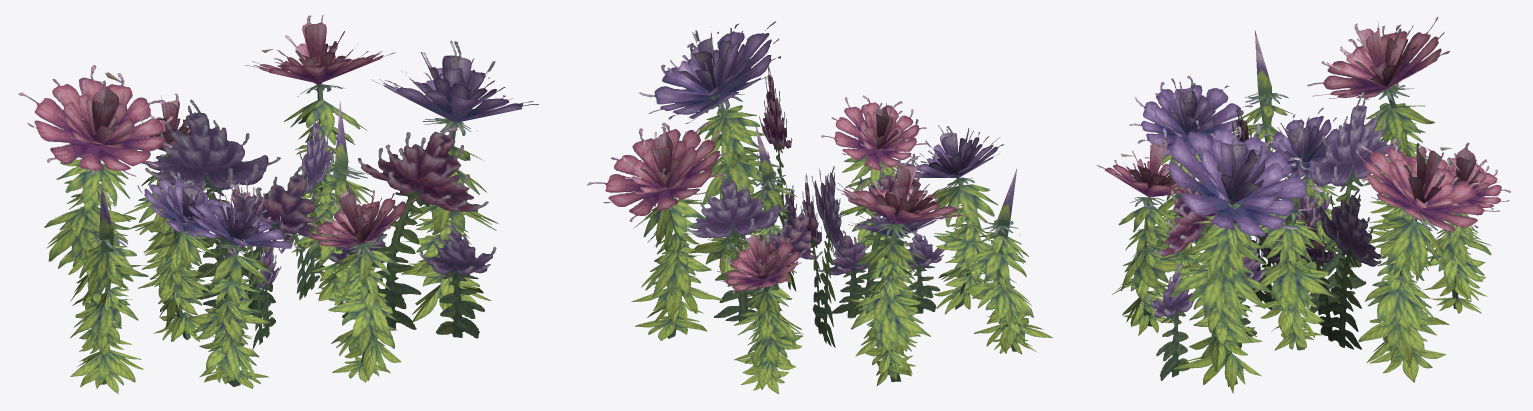
The model's file is Plant_3002_zhiwu01_hua08.FBX.
3 views of the same model, side by side, from view 1: azimuth 30°, elevation 25°; view 2: azimuth 150°, elevation 25°; view 3: azimuth 270°, elevation 25° (orthographic). The views are drawn at different scales.
Visible parts, largest first — view 1: Plant_3002_zhiwu01_hua08; view 2: Plant_3002_zhiwu01_hua08; view 3: Plant_3002_zhiwu01_hua08.
Boxes of the visible parts, box(x1,y1,x2,y2) form: Plant_3002_zhiwu01_hua08: box(18, 15, 538, 393); Plant_3002_zhiwu01_hua08: box(587, 21, 1052, 394); Plant_3002_zhiwu01_hua08: box(1096, 17, 1510, 393).
Size of the model in its own units: 256 by 145 by 214.
